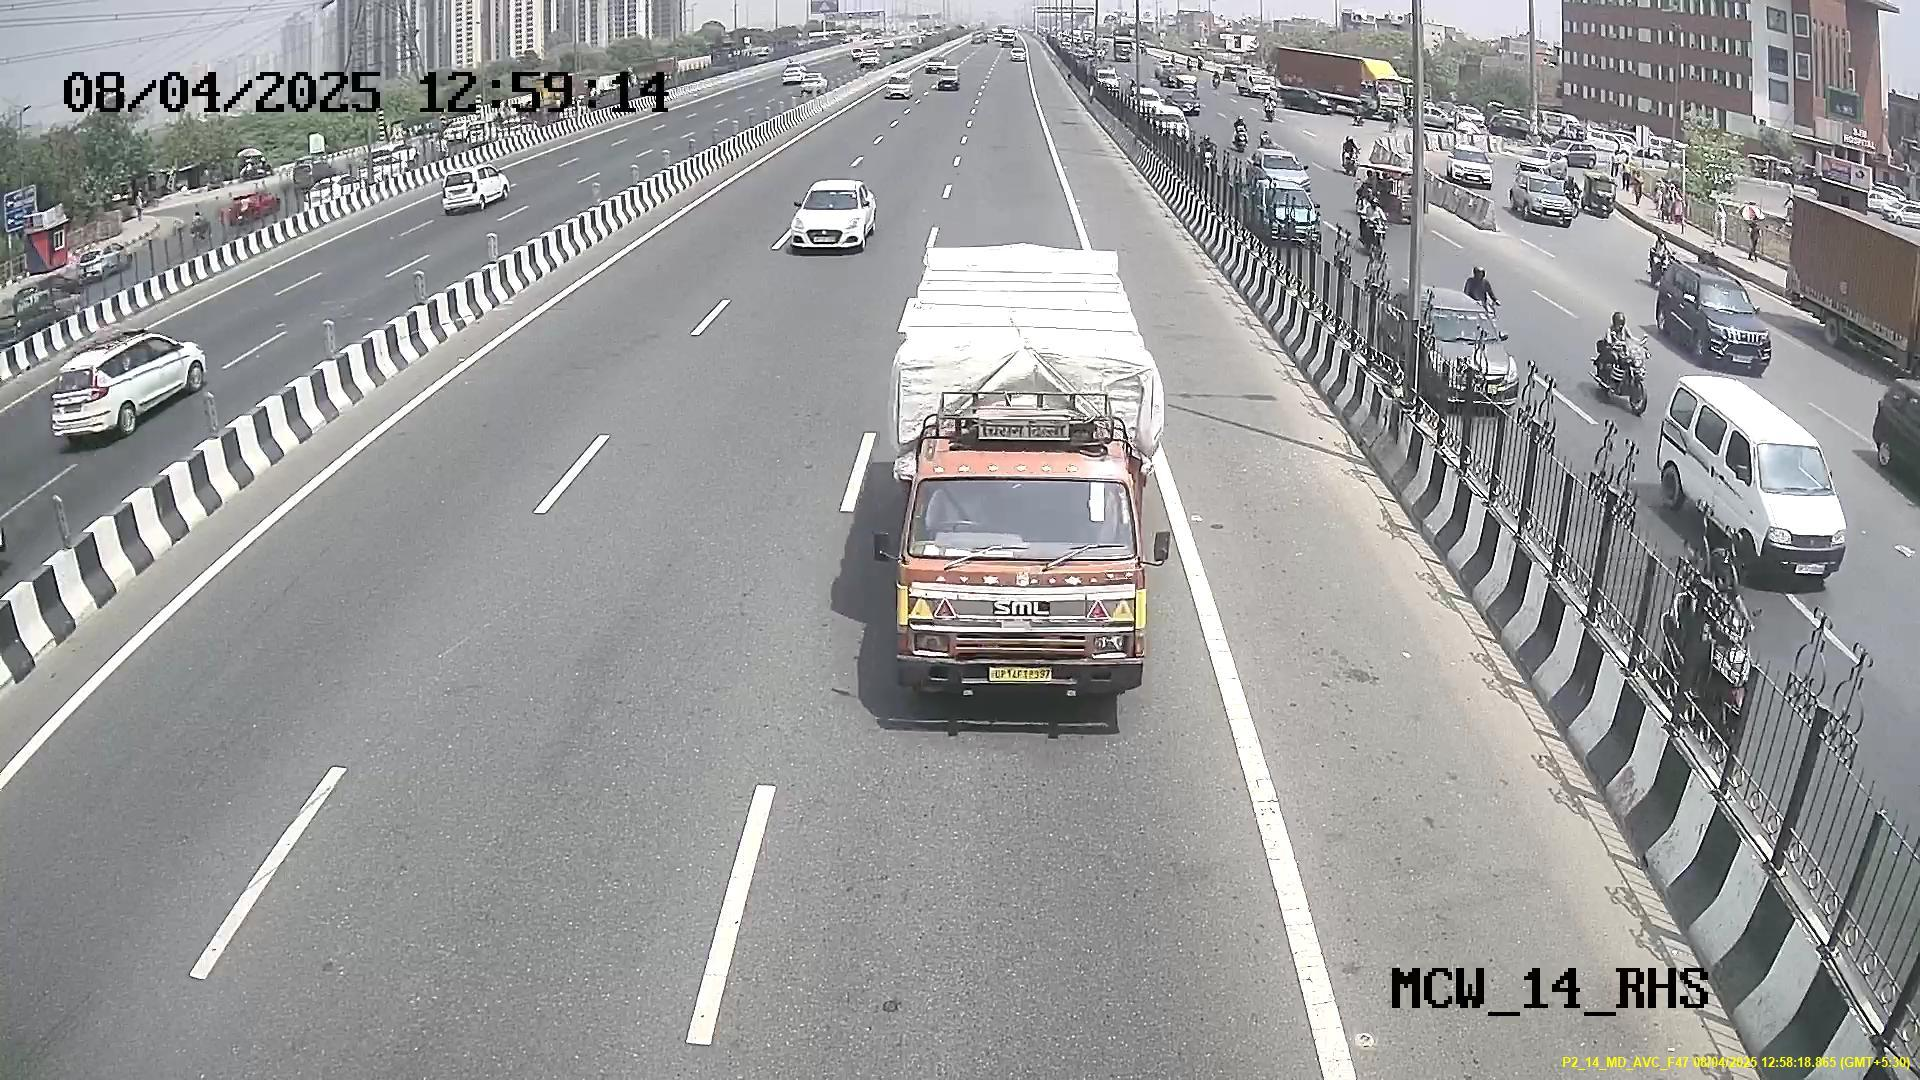car: (781, 174, 878, 255)
lcv: (886, 430, 1158, 716)
